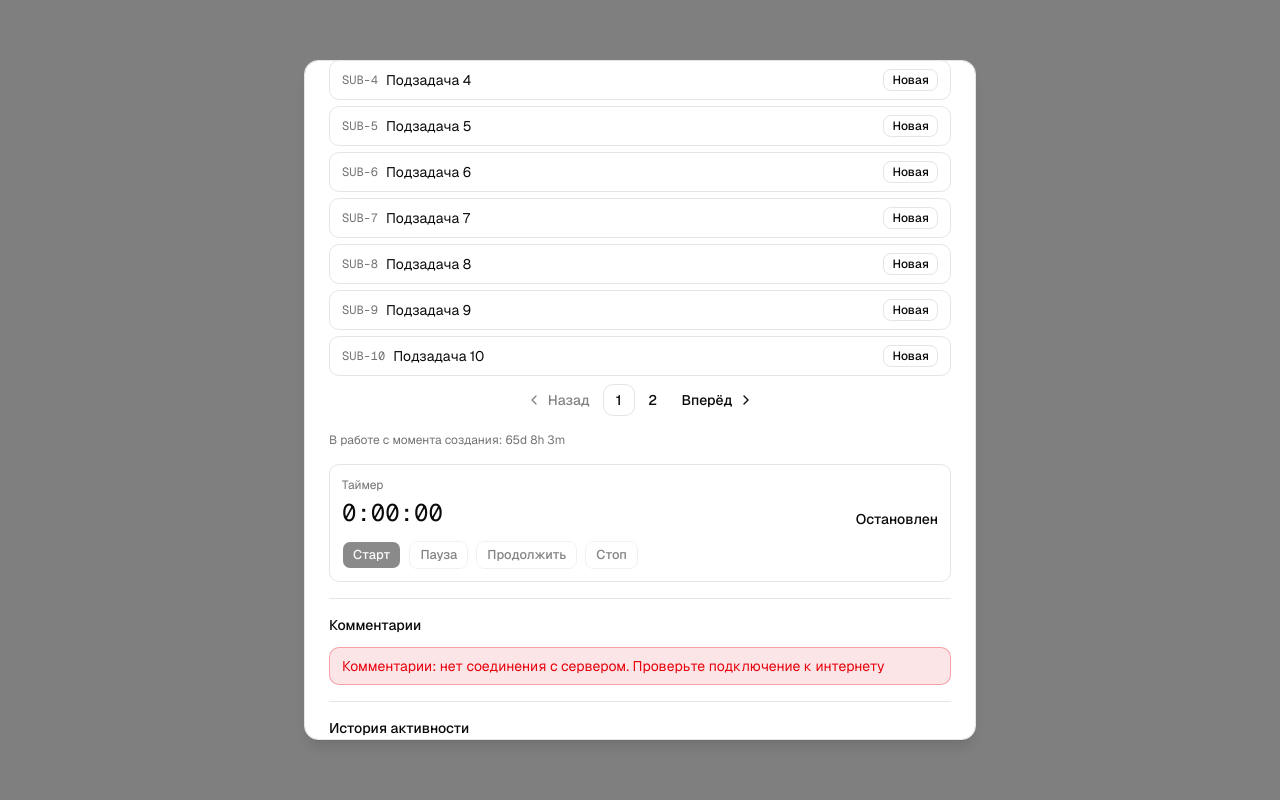
Test: TaskDetail subtasks › paginates when there are more subtasks than one page
(page scrolled)
Expected: the text "SUB-11" is not shown
Click the button with aria-label "Следующая страница".
click(716, 400)  # box [671,384,761,416]
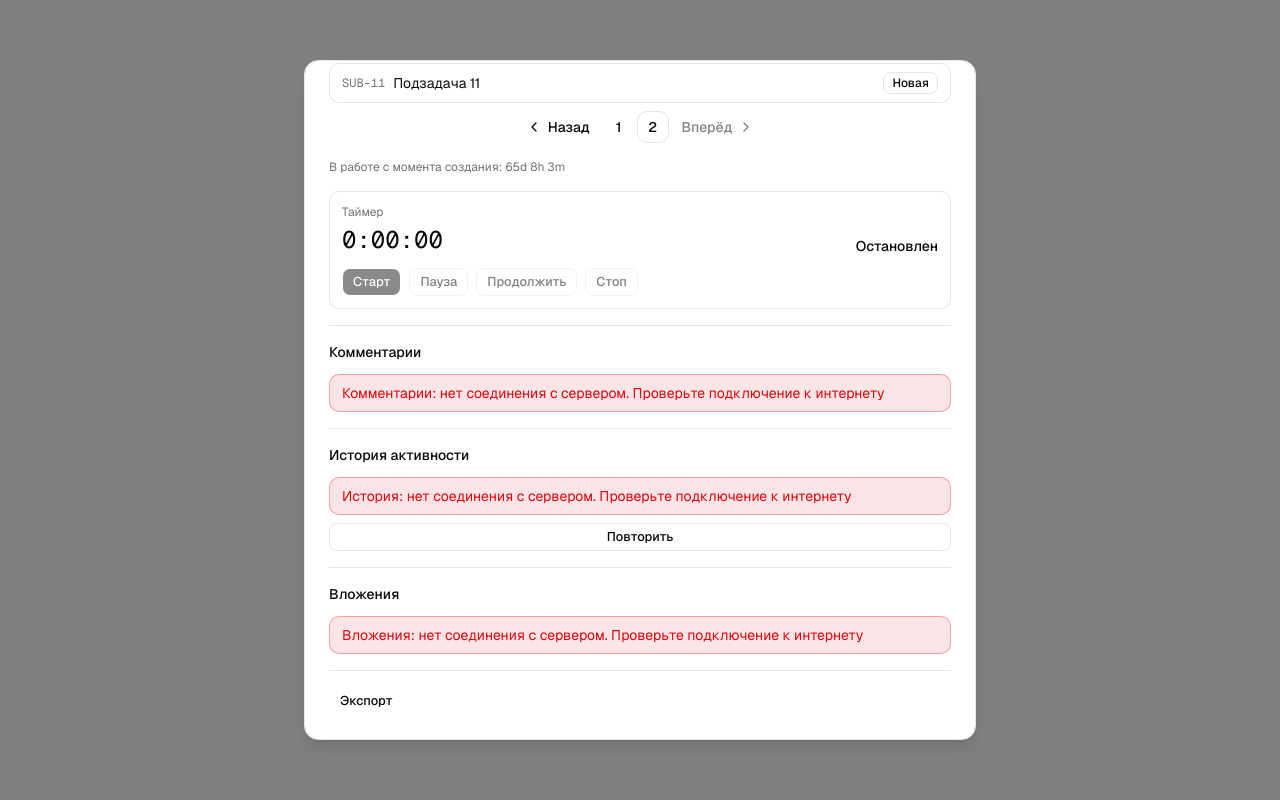
Now the text "SUB-11" is shown, box [342,75,385,91]
Now the number of list items with test id "task-detail-subtask-row" is 1, box [329,63,951,103]
